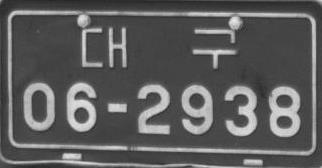0: (23, 81, 55, 131)
2: (136, 82, 170, 134)
3: (224, 84, 257, 137)
6: (66, 81, 96, 132)
8: (268, 84, 301, 138)
9: (180, 84, 214, 134)
대구_D: (81, 26, 236, 70)
